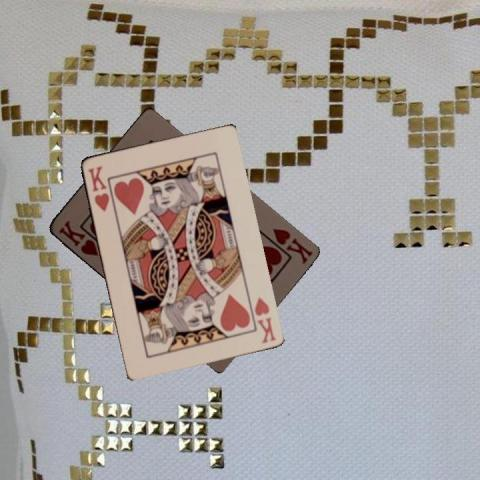Kh: (55, 217, 99, 258), (269, 226, 314, 266), (84, 162, 111, 212), (251, 294, 277, 344)
